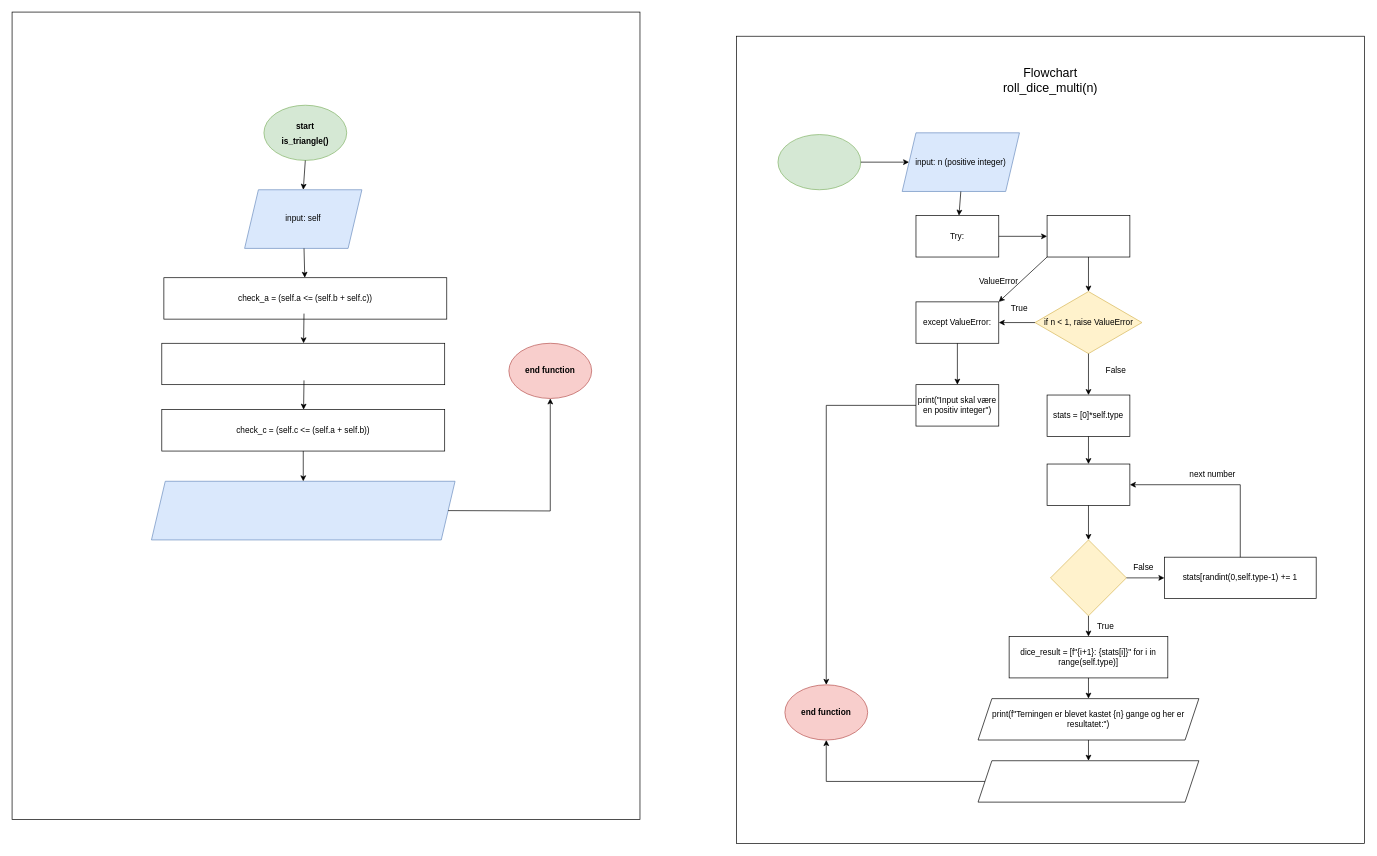
This 1377x856 diagram has some shape labels left out. The box of each missing label's shape, as (x1, y1, x2, y2) in pixels:
check_b = (self.b <= (self.a + self.c)): (161, 343, 445, 385)
for roll in range(n): (1046, 463, 1130, 505)
n = int(n): (1046, 215, 1130, 257)
output: 'JA' if (check_a and check_b and check_c) else 'NEJ': (151, 481, 455, 540)
print('\n'.join(dice_result)): (977, 760, 1199, 802)
roll > range(n)?: (1050, 539, 1126, 616)
start roll_dice_multi(n): (777, 134, 861, 190)
